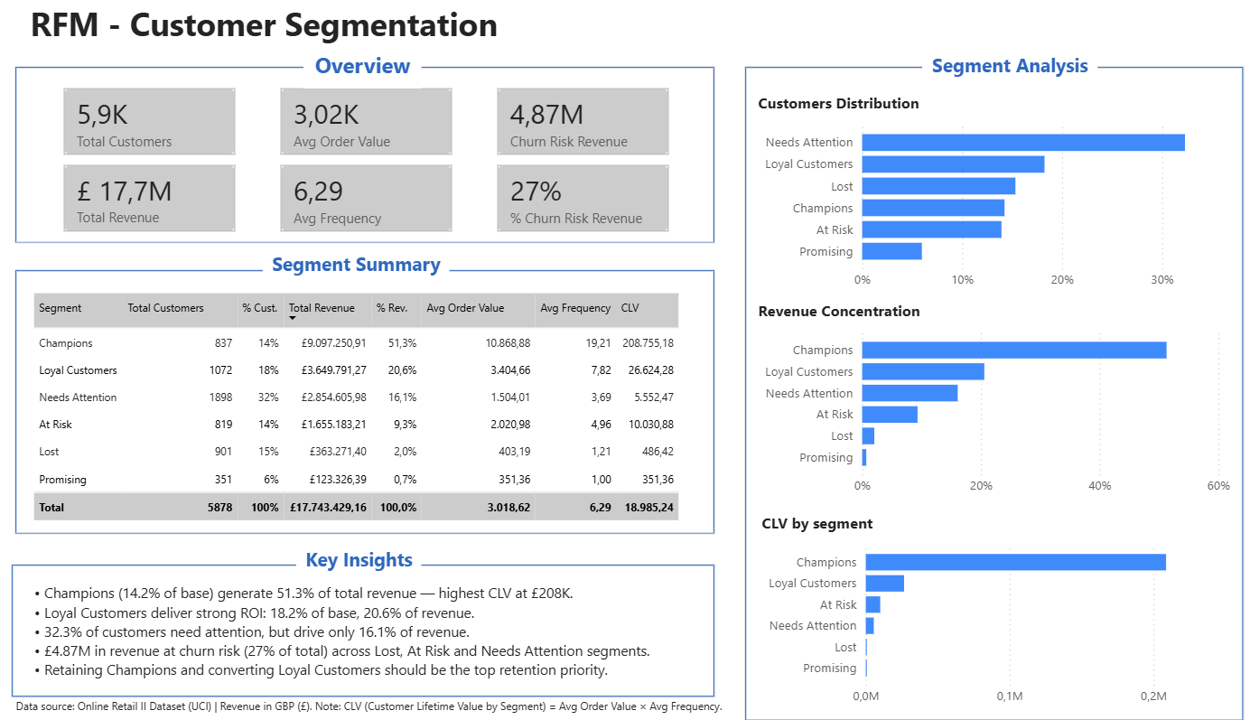

The dashboard page shown, as its layout file describes it:
{"tool":"powerbi","page":{"name":"Overview","canvas":[1280,720],"ordinal":0},"visuals":[{"type":"shape","box":[19.7,69.9,694.9,176.4],"z":0},{"type":"shape","box":[19.7,271.3,694.9,263.3],"z":1000},{"type":"shape","box":[15.7,562.9,698.6,132.9],"z":2000},{"type":"shape","box":[742.9,70,495.7,650],"z":3000},{"type":"cardVisual","fields":{"Data":["_Measures_.% Churn Risk Revenue"]},"box":[493.4,162.7,180,76.1],"z":4000},{"type":"cardVisual","fields":{"Data":["_Measures_.Total Customers"]},"box":[63.6,86.9,180,76.1],"z":5000},{"type":"cardVisual","fields":{"Data":["_Measures_.Total Revenue"]},"box":[63.6,162.7,180,76.1],"z":6000},{"type":"cardVisual","fields":{"Data":["_Measures_.Avg Order Value"]},"box":[278.5,86.8,180,76.1],"z":7000},{"type":"cardVisual","fields":{"Data":["_Measures_.Avg Frequency"]},"box":[278.5,162.7,180,76.1],"z":8000},{"type":"clusteredBarChart","title":"Customers Distribution","fields":{"Category":["rfm_segments.segment"],"Y":["_Measures_.% of Customers"]},"box":[752.2,95.8,471.9,204.2],"z":9000},{"type":"clusteredBarChart","title":"Revenue Concentration","fields":{"Category":["rfm_segments.segment"],"Y":["_Measures_.% of Revenue"]},"box":[752.2,301.8,478.2,202.4],"z":10000},{"type":"textbox","box":[23.3,577.6,650.1,107.5],"z":11000},{"type":"tableEx","fields":{"Values":["rfm_segments.segment","_Measures_.Total Customers","_Measures_.% of Customers","_Measures_.Total Revenue","_Measures_.% of Revenue","_Measures_.Avg Order Value","_Measures_.Avg Frequency","_Measures_.CLV"]},"box":[33.1,290.1,657.3,238.2],"z":12000},{"type":"textbox","box":[30,0,527.1,61.4],"z":13000},{"type":"cardVisual","fields":{"Data":["_Measures_.Churn Risk Revenue"]},"box":[493.4,86.9,180,76.1],"z":14000},{"type":"textbox","box":[306.3,49.3,117.3,43],"z":15000},{"type":"clusteredBarChart","title":"CLV by segment","fields":{"Category":["rfm_segments.segment"],"Y":["_Measures_.CLV"]},"box":[755.8,512.2,483.6,200.6],"z":16000},{"type":"textbox","box":[920,51.4,174.3,45.7],"z":17000},{"type":"textbox","box":[266,248.1,185.4,45.7],"z":18000},{"type":"textbox","box":[299.1,540.9,124.5,44.8],"z":19000},{"type":"textbox","box":[16.1,689.6,763.9,30.4],"z":19001}]}

Visuals, with their boxes in screenshot pixels (x1, y1, x2, y2), scaled from the page's 1280x720 canvas onto the 1250x720 screenshot:
shape: <region>19, 70, 698, 246</region>
shape: <region>19, 271, 698, 535</region>
shape: <region>15, 563, 698, 696</region>
shape: <region>725, 70, 1210, 719</region>
cardVisual - _Measures_.% Churn Risk Revenue: <region>482, 163, 658, 239</region>
cardVisual - _Measures_.Total Customers: <region>62, 87, 238, 163</region>
cardVisual - _Measures_.Total Revenue: <region>62, 163, 238, 239</region>
cardVisual - _Measures_.Avg Order Value: <region>272, 87, 448, 163</region>
cardVisual - _Measures_.Avg Frequency: <region>272, 163, 448, 239</region>
"Customers Distribution" clusteredBarChart: <region>735, 96, 1195, 300</region>
"Revenue Concentration" clusteredBarChart: <region>735, 302, 1202, 504</region>
textbox: <region>23, 578, 658, 685</region>
tableEx - rfm_segments.segment x _Measures_.Total Customers: <region>32, 290, 674, 528</region>
textbox: <region>29, 0, 544, 61</region>
cardVisual - _Measures_.Churn Risk Revenue: <region>482, 87, 658, 163</region>
textbox: <region>299, 49, 414, 92</region>
"CLV by segment" clusteredBarChart: <region>738, 512, 1210, 713</region>
textbox: <region>898, 51, 1069, 97</region>
textbox: <region>260, 248, 441, 294</region>
textbox: <region>292, 541, 414, 586</region>
textbox: <region>16, 690, 762, 719</region>
